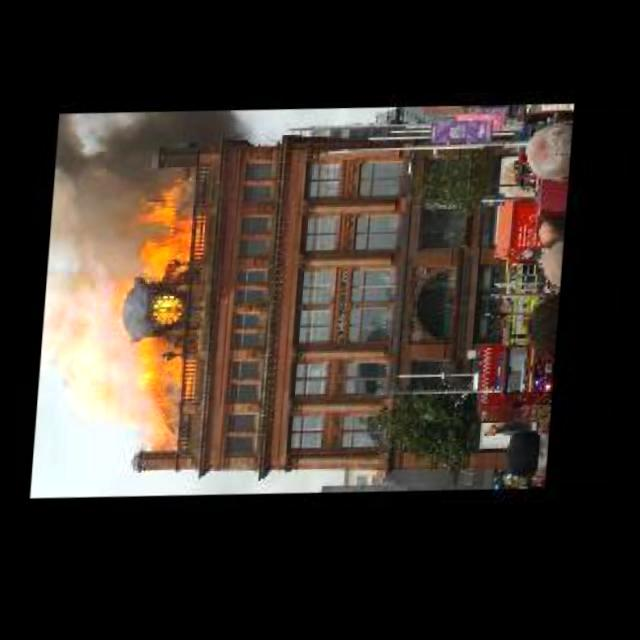fire: (110, 177, 214, 447), (56, 112, 256, 188)
